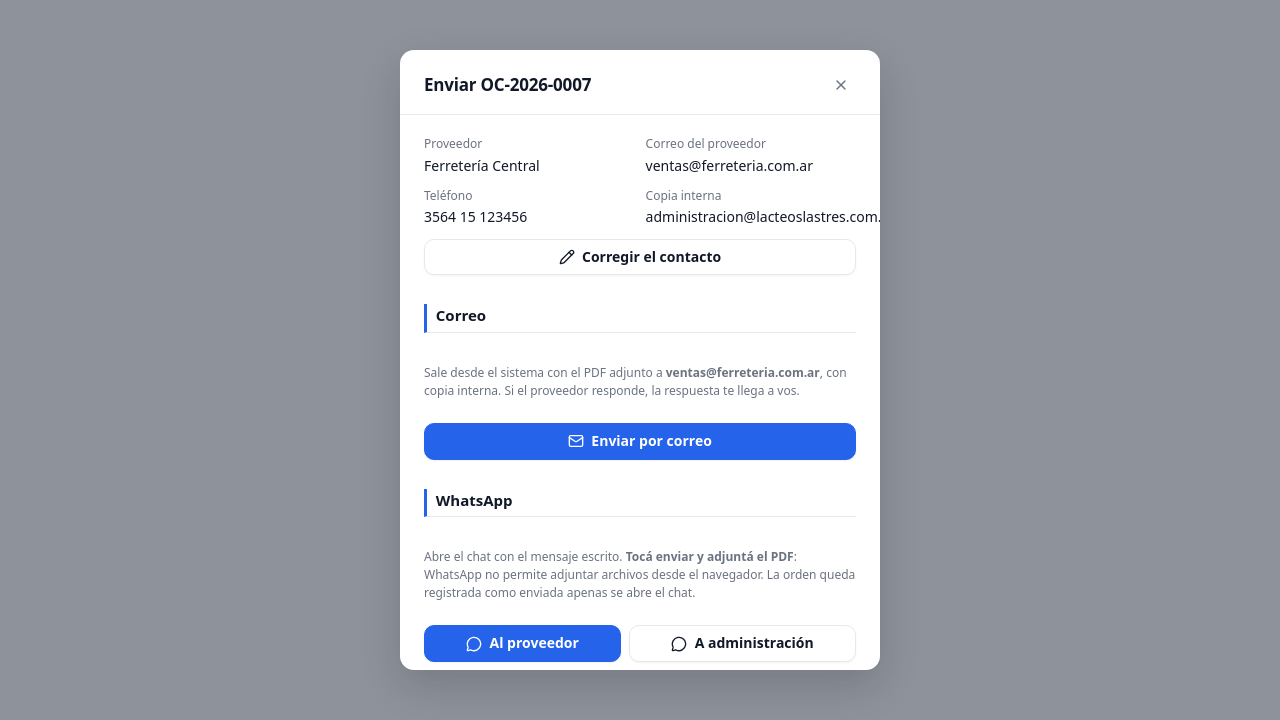
Scenario: EnviarOrden — correo automático › confirma a quien se envio
The image size is (1280, 720).
Step 1. Click the button "Enviar por correo" → coordinates (640, 441), box [424,423,856,460]
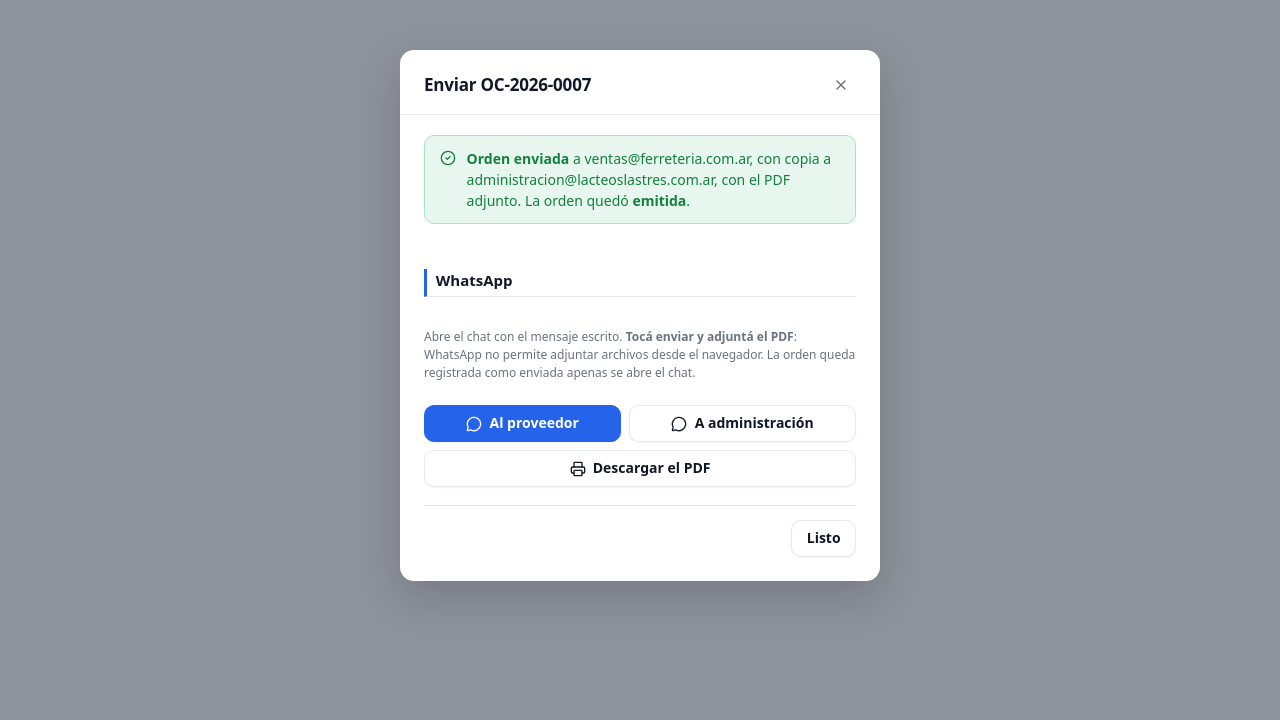
Result: the text "Orden enviada" is shown at [467,149,569,168]
Result: the text "ventas@ferreteria.com.ar" is shown at [584,149,750,168]
Result: the text "administracion@lacteoslastres.com.ar" is shown at [467,170,714,189]
